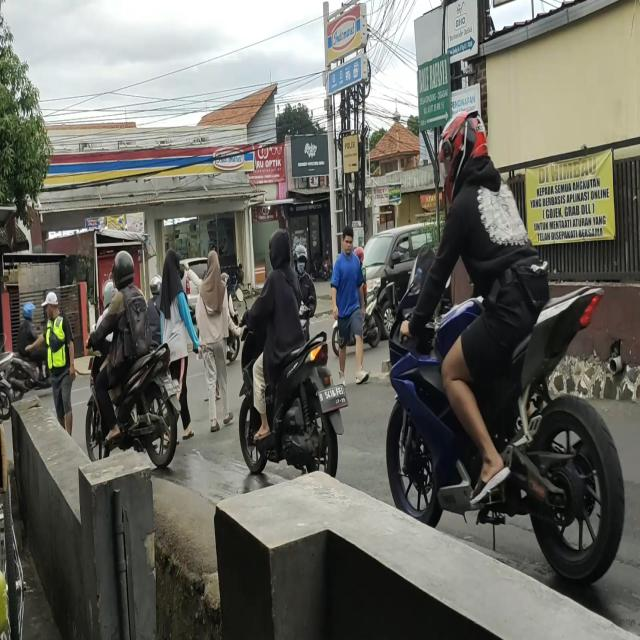helmet: (440, 110, 490, 168), (110, 252, 135, 290), (103, 282, 114, 304), (22, 303, 35, 319), (150, 278, 162, 294)
no-helmet: (266, 225, 296, 274)
